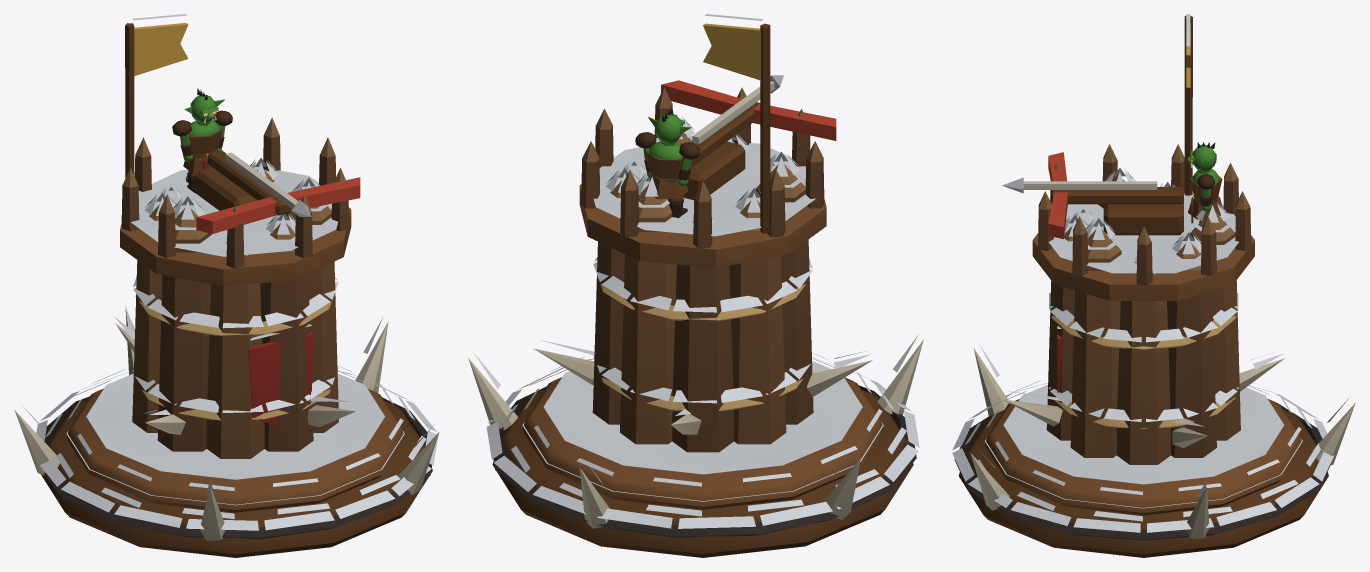
File: horde-6.glb
3 renders of one model, left to right at view 1: azimuth 30°, elevation 25°; view 2: azimuth 150°, elevation 25°; view 3: azimuth 270°, elevation 25°, orthographic. The views are drawn at different scales.
Parts seen in each view (by area): view 1: horde_6_peint, Tourelle_peint, Buste_peint, Crane_peint, BrasG_peint; view 2: horde_6_peint, Tourelle_peint, Buste_peint, Crane_peint, BrasG_peint; view 3: horde_6_peint, Tourelle_peint, Buste_peint, Crane_peint.
Boxes of the visible parts, x1,y1,x2,y2 form: horde_6_peint: (14, 14, 439, 557); Tourelle_peint: (196, 150, 360, 233); Buste_peint: (183, 120, 222, 173); Crane_peint: (184, 88, 224, 123); BrasG_peint: (172, 120, 193, 161); horde_6_peint: (468, 14, 923, 557); Tourelle_peint: (661, 75, 836, 200); Buste_peint: (646, 141, 688, 199); Crane_peint: (648, 108, 691, 143); BrasG_peint: (677, 142, 699, 186); horde_6_peint: (952, 14, 1355, 557); Tourelle_peint: (1002, 152, 1183, 239); Buste_peint: (1188, 168, 1222, 223); Crane_peint: (1187, 142, 1216, 171).
Size of the model in its own units: 0.9055 by 1.07 by 0.9075.
